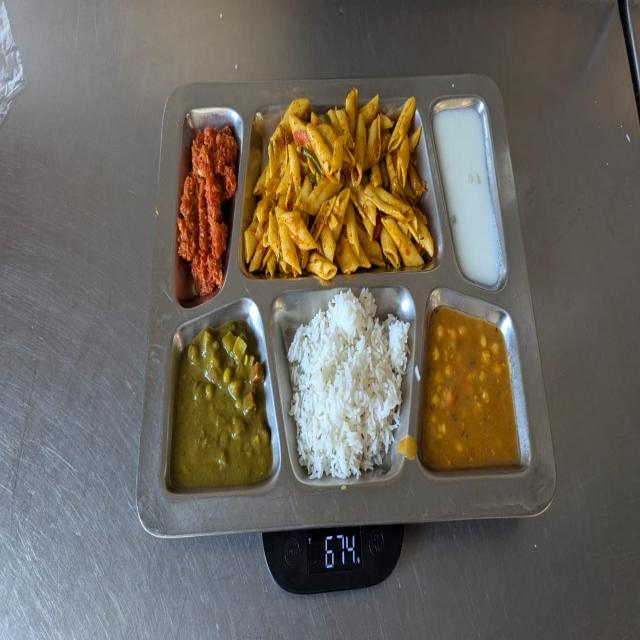Dal: (422, 306, 523, 474)
Gajar Ka Halwa: (178, 125, 238, 300)
Pasta: (244, 87, 437, 280)
Raita: (438, 108, 504, 288)
Veg Miloni: (170, 319, 273, 492)
White Rice: (289, 288, 410, 481)
